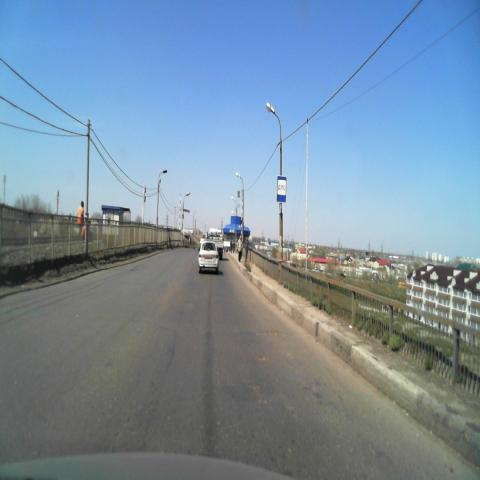7_12: (276, 175, 287, 203)
